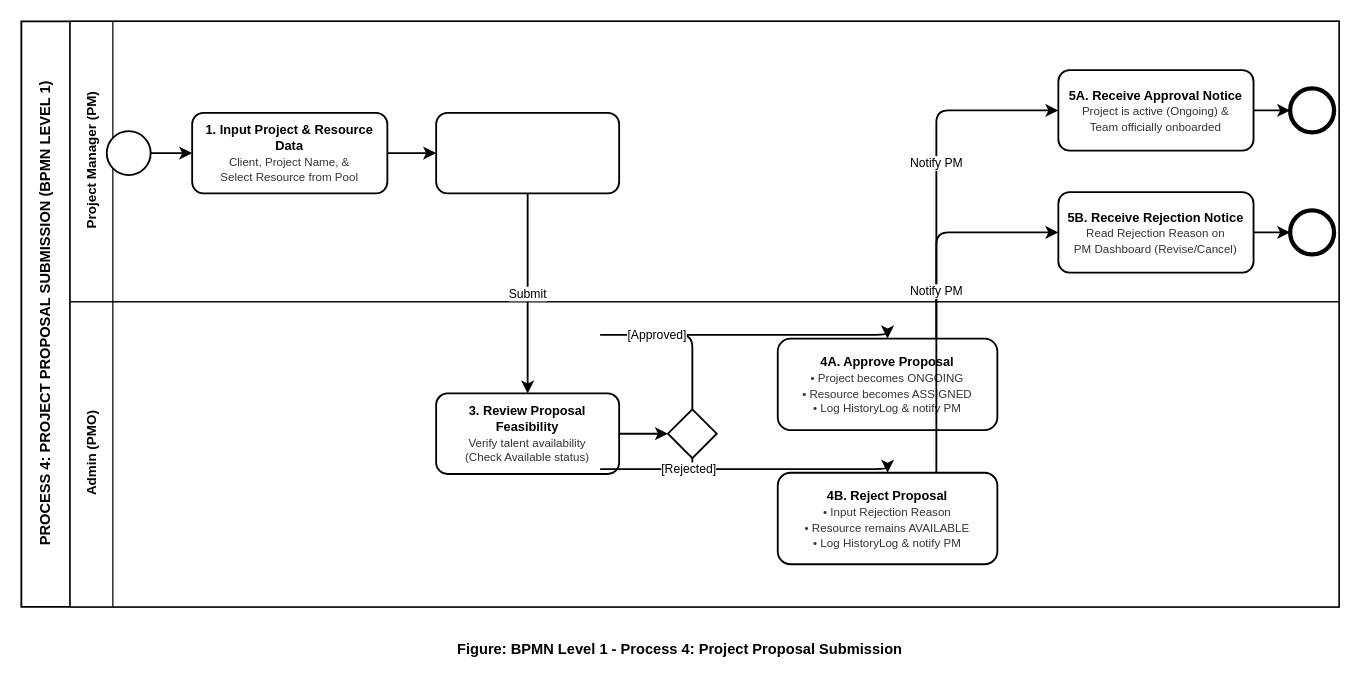
Some shapes in this 1362 by 689 pixel diagram are drawn without their labels. The shapes that lost their labels are listed below. From the top down, each one's centre as x and y in pixels, then its label:
At (x=1311, y=110): "Ongoing Project Active".
At (x=128, y=152): "New Client Project Inception".
At (x=527, y=152): "2. Submit Proposal Dispatch to Admin queue (Status: PENDING)".
At (x=1311, y=232): "Proposal Rejected".
At (x=691, y=433): "Approved?".
